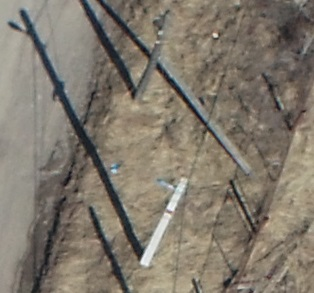opora: (115, 173, 189, 268)
